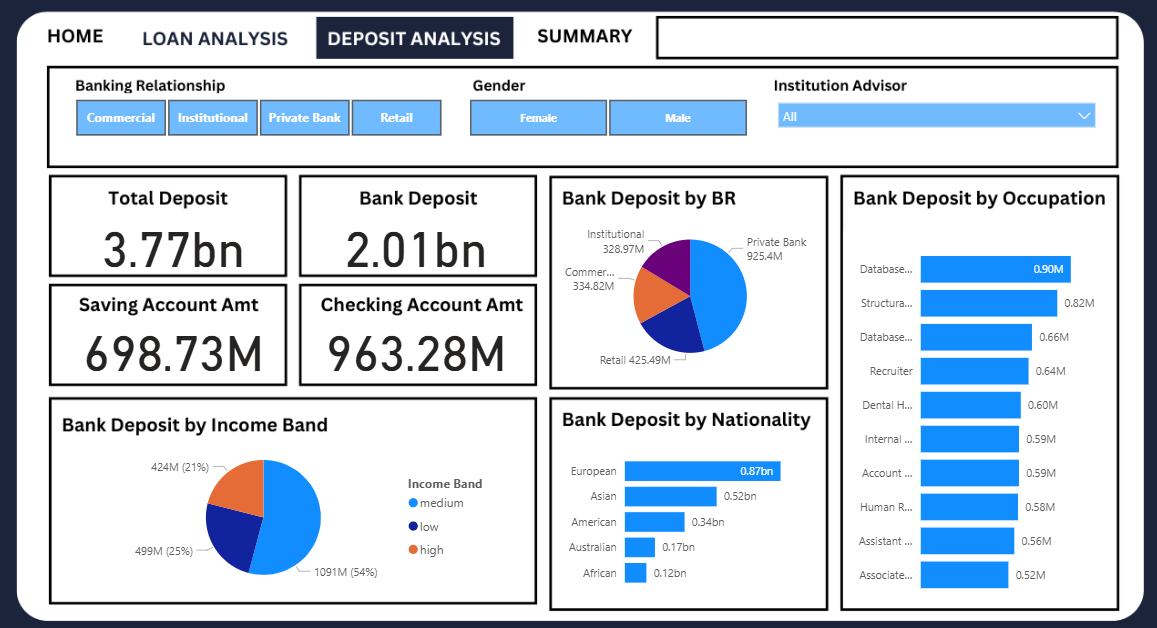

The dashboard page shown, as its layout file describes it:
{"tool":"powerbi","page":{"name":"DEPOSIT ANALYSIS","canvas":[1280,720],"ordinal":2},"visuals":[{"type":"actionButton","box":[39.8,30.2,100.2,39.8],"z":0},{"type":"actionButton","box":[155.1,30.2,170.2,39.8],"z":1},{"type":"actionButton","box":[354,30.2,212.7,41.2],"z":2},{"type":"actionButton","box":[591.4,30.2,115.3,39.8],"z":3},{"type":"slicer","fields":{"Values":["banking_case customer.BRId"]},"box":[61.7,111.1,451.5,53.5],"z":4},{"type":"slicer","fields":{"Values":["banking_case customer.GenderId"]},"box":[494,111.1,354,53.5],"z":5},{"type":"slicer","fields":{"Values":["banking_case customer.IAId"]},"box":[848,111.1,369.1,53.5],"z":6},{"type":"card","fields":{"Values":["banking_case customer.Total Deposit"]},"box":[76.8,245.6,236,61.7],"z":7},{"type":"card","fields":{"Values":["Sum(banking_case customer.Bank Deposits)"]},"box":[343.1,245.6,236,61.7],"z":8},{"type":"card","fields":{"Values":["Sum(banking_case customer.Saving Accounts)"]},"box":[76.8,359.5,236,61.7],"z":9},{"type":"card","fields":{"Values":["Sum(banking_case customer.Checking Accounts)"]},"box":[343.1,359.5,236,61.7],"z":10},{"type":"pieChart","fields":{"Y":["Sum(banking_case customer.Bank Deposits)"],"Category":["banking_case customer.Income Band"]},"box":[130.4,489.9,426.8,174.3],"z":11},{"type":"pieChart","fields":{"Y":["Sum(banking_case customer.Bank Deposits)"],"Category":["banking_case customer.BRId"]},"box":[617.5,247,289.5,174.3],"z":12},{"type":"barChart","fields":{"Y":["Sum(banking_case customer.Bank Deposits)"],"Category":["banking_case customer.Nationality"]},"box":[617.5,491.3,289.5,174.3],"z":13},{"type":"barChart","fields":{"Y":["Avg(banking_case customer.Bank Deposits)"],"Category":["banking_case customer.Occupation"]},"box":[930.4,262.1,286.8,413],"z":14}]}

Visuals, with their boxes on the page's 1280x720 design canvas (x1, y1, x2, y2). These are canvas units, not pixel positions in the 1157x628 screenshot, which may show the page scaled, cropped or inside an application window:
actionButton: (40,30,140,70)
actionButton: (155,30,325,70)
actionButton: (354,30,567,71)
actionButton: (591,30,707,70)
slicer - banking_case customer.BRId: (62,111,513,165)
slicer - banking_case customer.GenderId: (494,111,848,165)
slicer - banking_case customer.IAId: (848,111,1217,165)
card - banking_case customer.Total Deposit: (77,246,313,307)
card - Sum(banking_case customer.Bank Deposits): (343,246,579,307)
card - Sum(banking_case customer.Saving Accounts): (77,360,313,421)
card - Sum(banking_case customer.Checking Accounts): (343,360,579,421)
pieChart - Sum(banking_case customer.Bank Deposits) x banking_case customer.Income Band: (130,490,557,664)
pieChart - Sum(banking_case customer.Bank Deposits) x banking_case customer.BRId: (618,247,907,421)
barChart - Sum(banking_case customer.Bank Deposits) x banking_case customer.Nationality: (618,491,907,666)
barChart - Avg(banking_case customer.Bank Deposits) x banking_case customer.Occupation: (930,262,1217,675)
